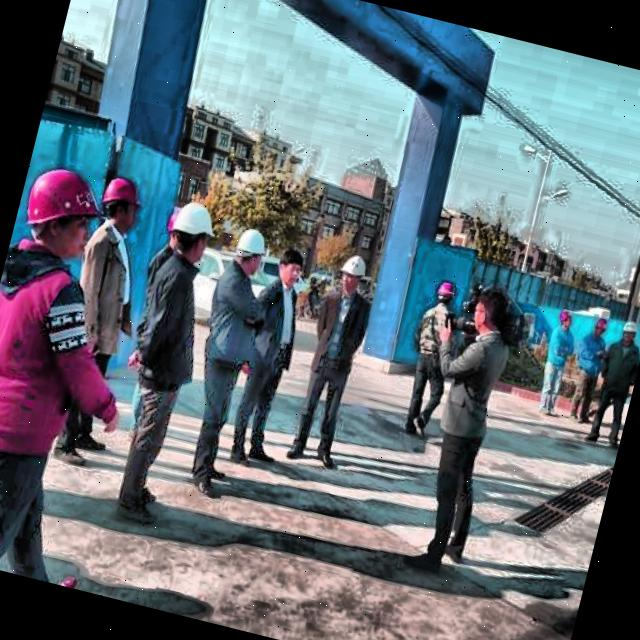helmet: (14, 159, 106, 264), (166, 195, 221, 266), (92, 170, 146, 232), (229, 225, 271, 275), (337, 250, 368, 294), (617, 316, 640, 351), (433, 280, 458, 310), (556, 306, 576, 332), (593, 315, 609, 338)
